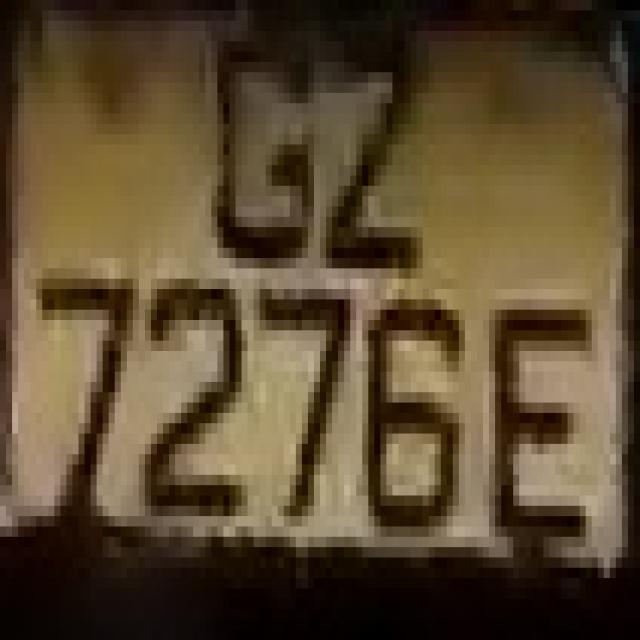2: (120, 238, 254, 516)
6: (356, 289, 477, 557)
7: (30, 248, 133, 516), (248, 268, 344, 526)
E: (495, 278, 598, 568)
G: (205, 10, 326, 268)
Z: (320, 0, 447, 310)
